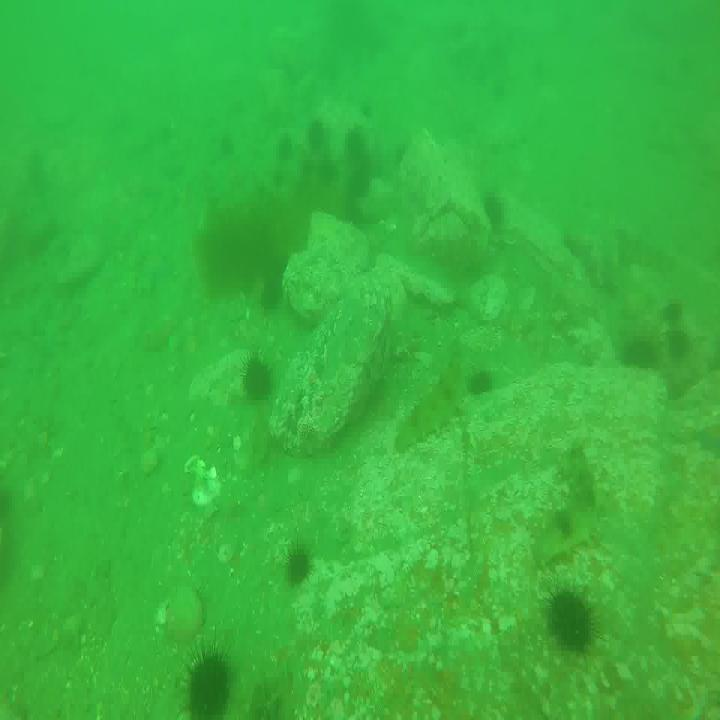echinus: (548, 584, 595, 657), (187, 648, 233, 720), (243, 356, 275, 406), (626, 336, 660, 377), (282, 548, 312, 585), (353, 158, 379, 199), (259, 272, 287, 310), (305, 115, 329, 156), (471, 366, 497, 402), (668, 328, 694, 361), (345, 128, 367, 164), (319, 156, 340, 186), (278, 136, 300, 163)
holothurian: (534, 449, 600, 567), (398, 356, 472, 451)
